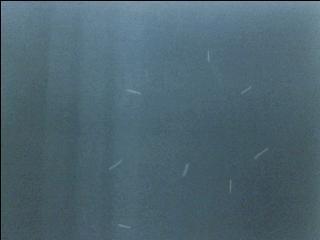scratch: (121, 82, 147, 102), (173, 160, 192, 182), (235, 82, 258, 97), (203, 46, 216, 69), (114, 219, 134, 233), (227, 174, 237, 196), (254, 147, 269, 159), (108, 159, 123, 171)
